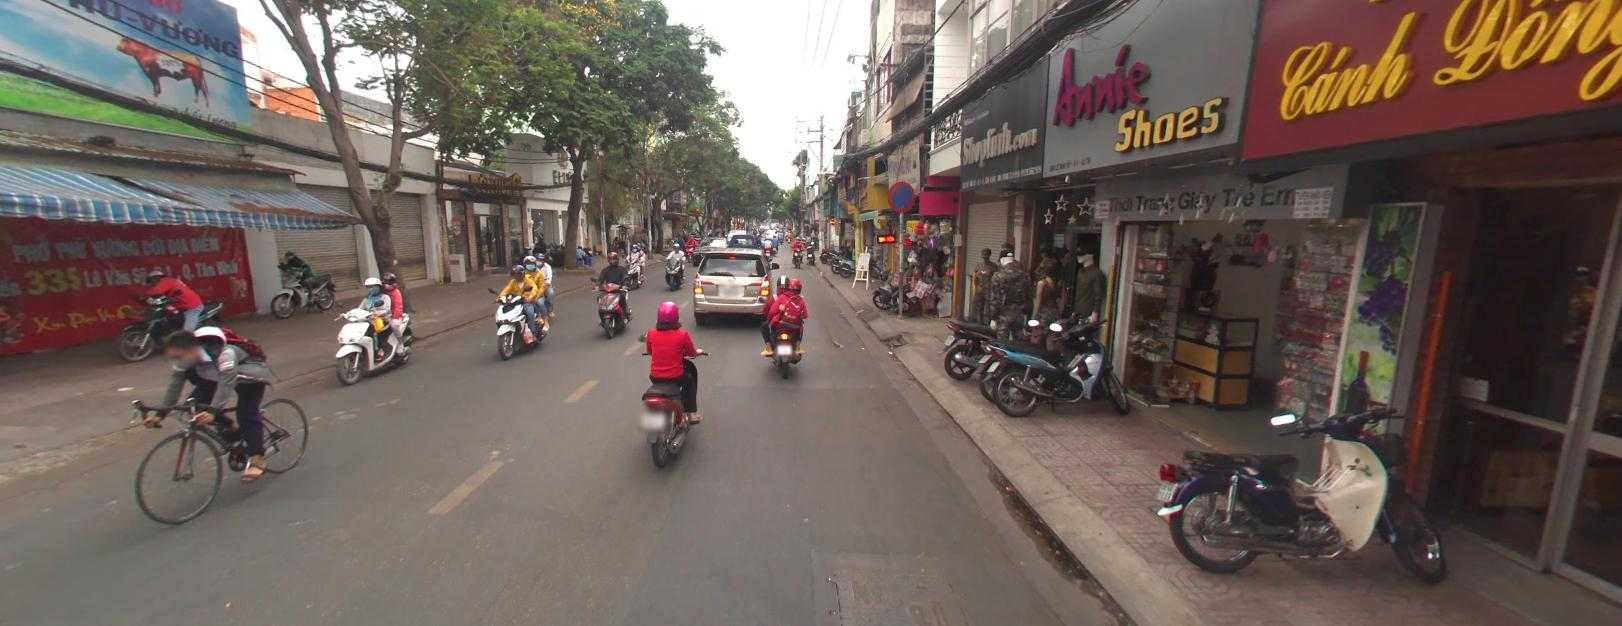Cam dung va do: (885, 179, 915, 211)
